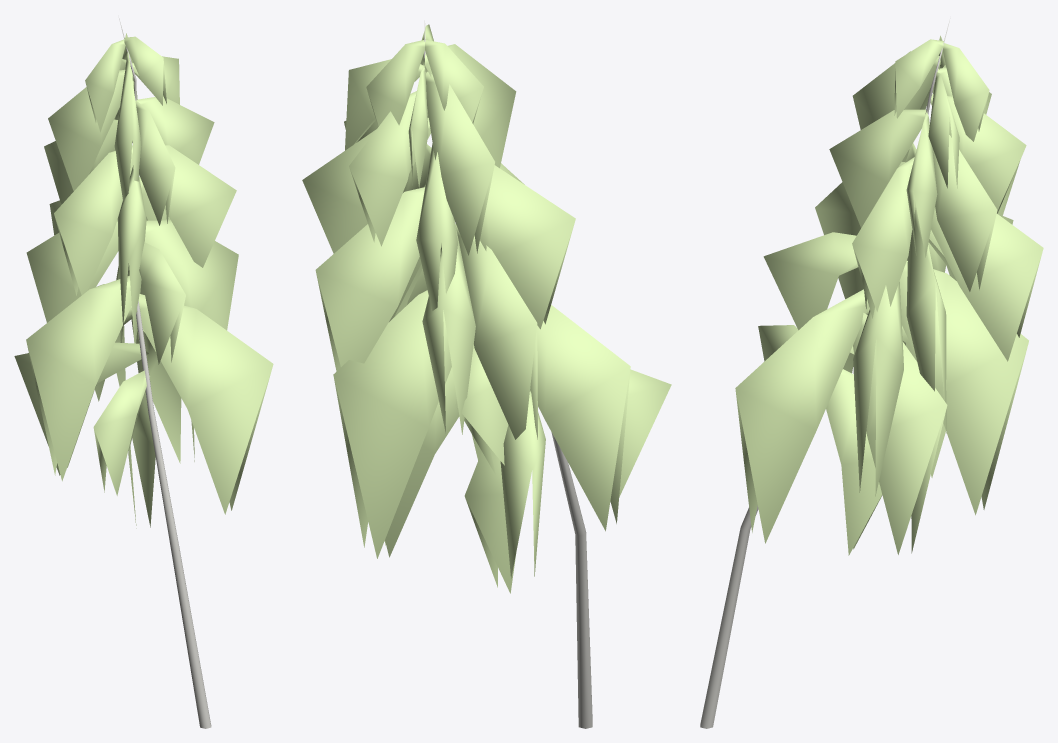
The model's file is birch_01.fbx.
The picture shows the model from 3 angles, left to right: view 1: azimuth 30°, elevation 25°; view 2: azimuth 150°, elevation 25°; view 3: azimuth 270°, elevation 25°; orthographic projection. The views are drawn at different scales.
Visible parts, largest first — view 1: Birch_01; view 2: Birch_01; view 3: Birch_01.
Boxes of the visible parts, x1,y1,x2,y2 form: Birch_01: (14,18,273,728); Birch_01: (302,20,671,728); Birch_01: (700,18,1043,728).
Bounding box in the file's own units: 104 × 292 × 126.
